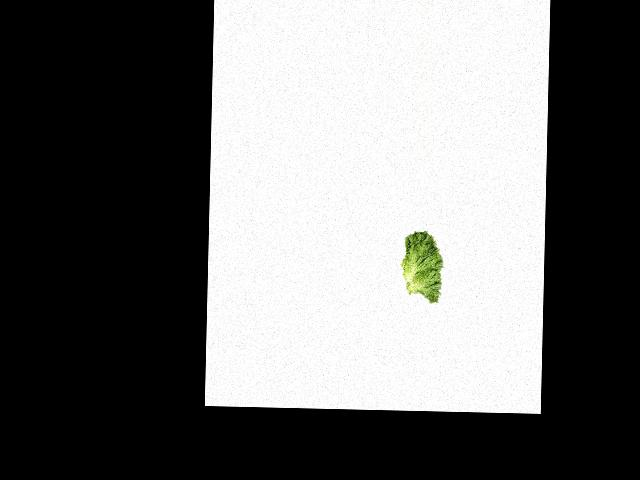lettuce: (397, 229, 449, 303)
